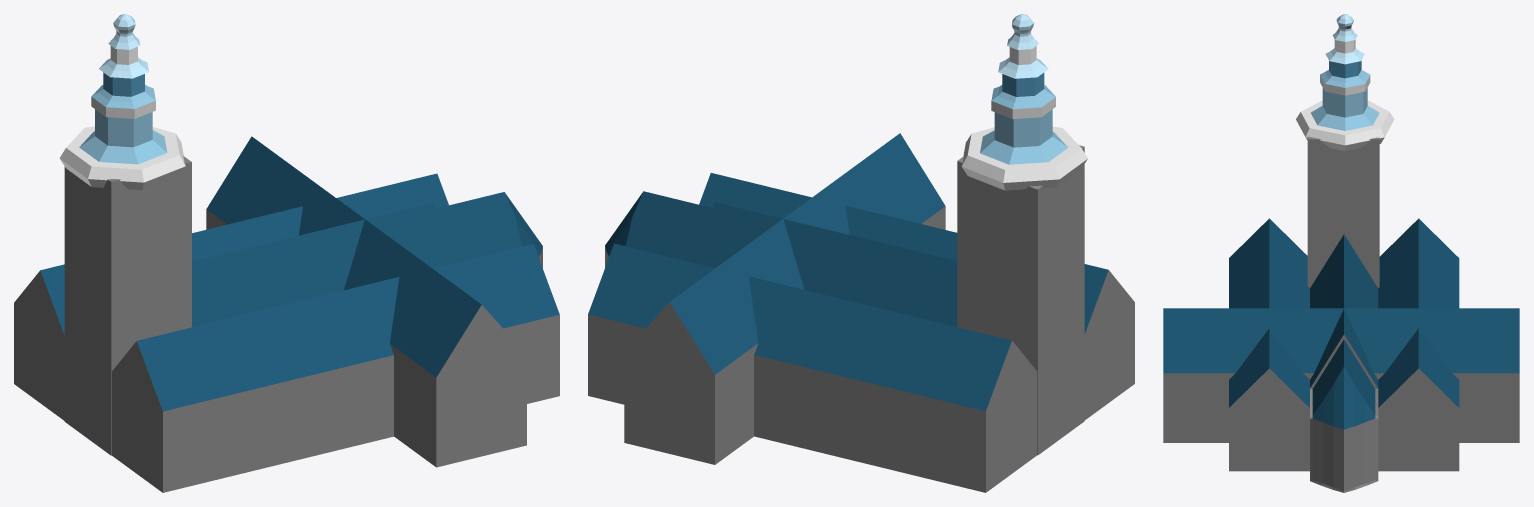
File: kerk_vlissingen_with_textures.fbx
The picture shows the model from 3 angles, left to right: view 1: azimuth 30°, elevation 25°; view 2: azimuth 150°, elevation 25°; view 3: azimuth 270°, elevation 25°; orthographic projection. The views are drawn at different scales.
Visible parts, largest first — view 1: Cube, Cube.002, Cube.001; view 2: Cube, Cube.002, Cube.001; view 3: Cube, Cube.001, Cube.002.
Boxes of the visible parts, x1=… form: Cube: x1=14, y1=173, x2=559, y2=492; Cube.002: x1=59, y1=14, x2=191, y2=455; Cube.001: x1=206, y1=136, x2=526, y2=467; Cube: x1=588, y1=173, x2=1134, y2=492; Cube.002: x1=957, y1=14, x2=1087, y2=455; Cube.001: x1=624, y1=133, x2=945, y2=464; Cube: x1=1229, y1=218, x2=1459, y2=492; Cube.001: x1=1163, y1=308, x2=1519, y2=442; Cube.002: x1=1296, y1=14, x2=1394, y2=287.
Bounding box in the file's own units: 1033 × 873 × 879.
Materials: 1 (1 with a texture image).
